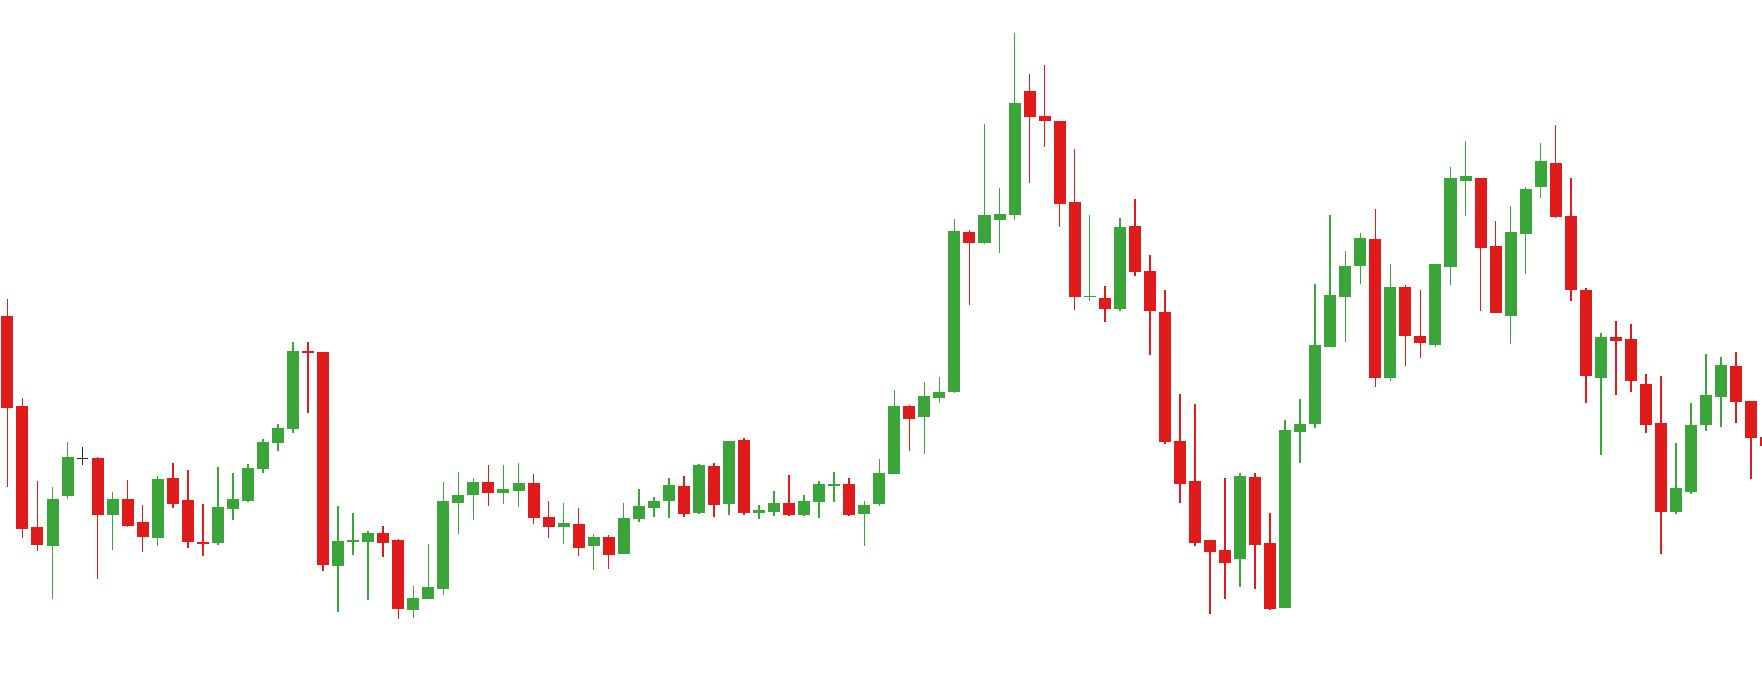buy: (856, 356, 1247, 615), (198, 443, 345, 610)
sell: (1366, 143, 1489, 292)
